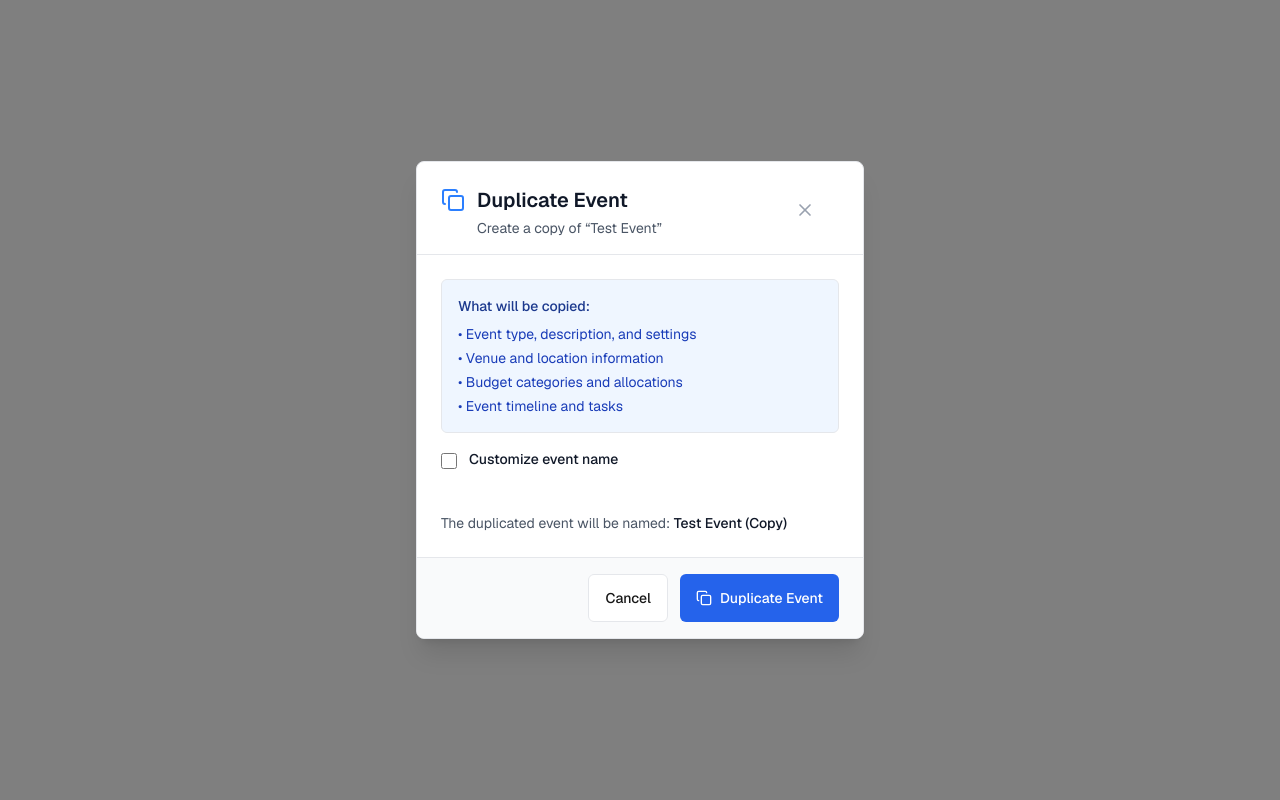
Test: Event Actions & Dialogs - Smoke Tests › DuplicateEventDialog › allows customizing event name
# Enable custom name checkbox
Click the checkbox labelled "Customize event name" at (449, 461), box top-left (441, 453), bottom-right (457, 469)
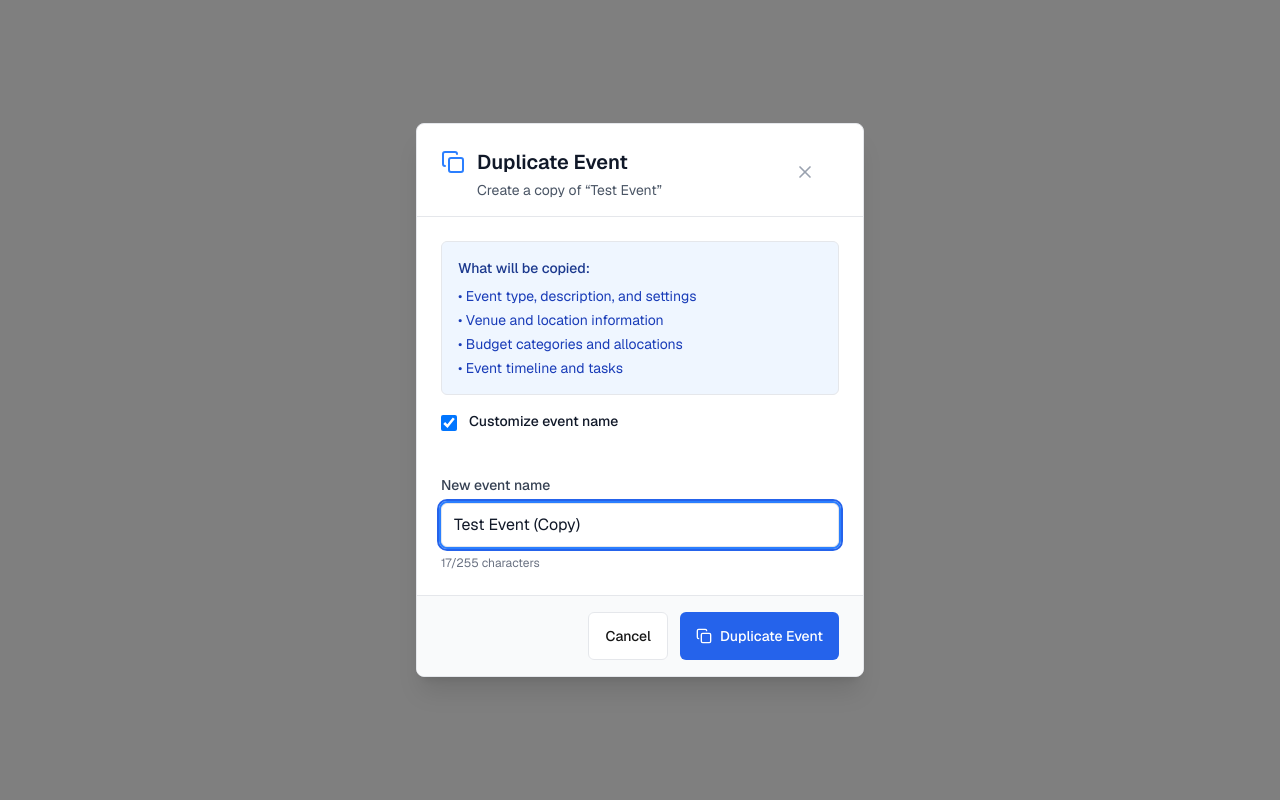
Expected: the field labelled "New event name" is shown, top-left (441, 503), bottom-right (839, 547)
